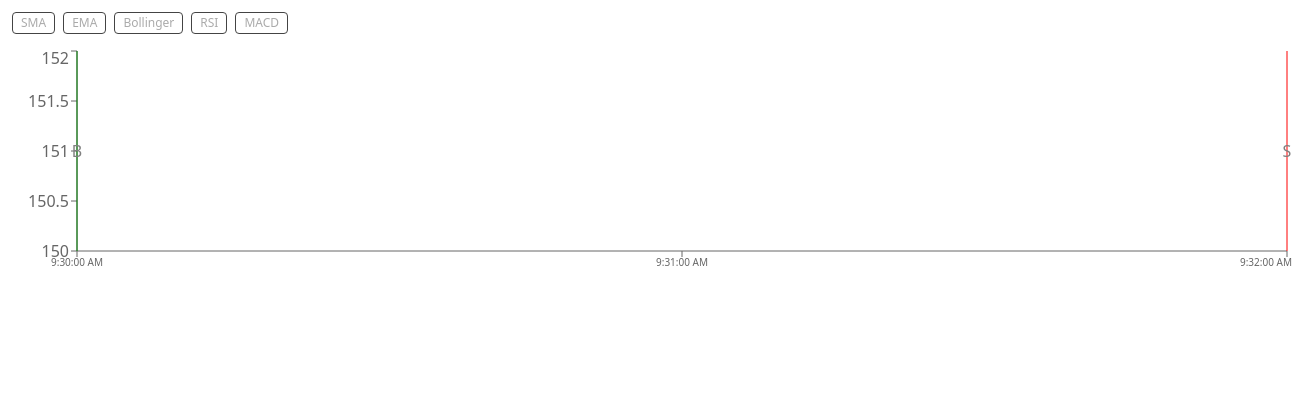
Test case: PriceChart › MACD panel toggles on/off via local state
The width and height of the screenshot is (1304, 410).
Click the button with test id "toggle-macd". click: (262, 23)
box: [235,12,288,34]
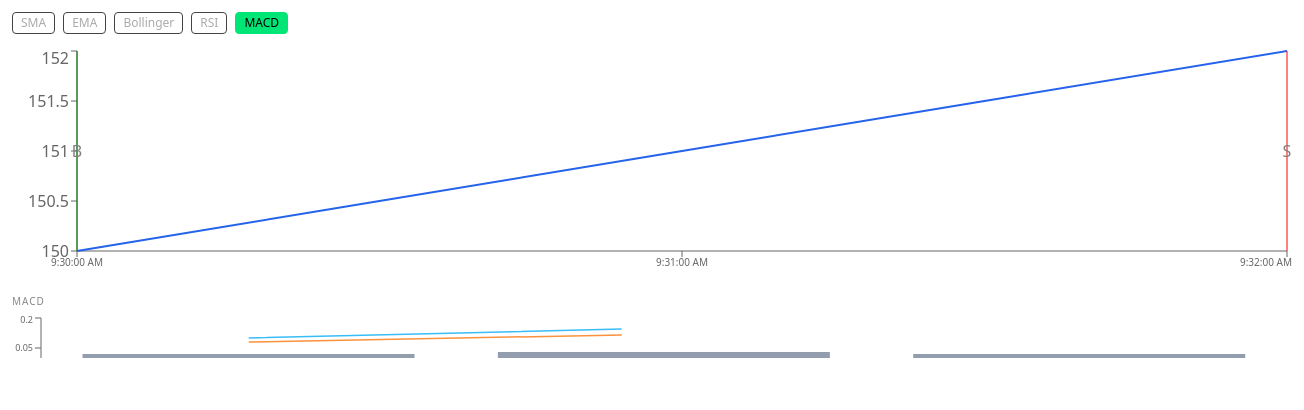
Expected: the element with test id "macd-panel" is shown, [12,294,1292,393]
